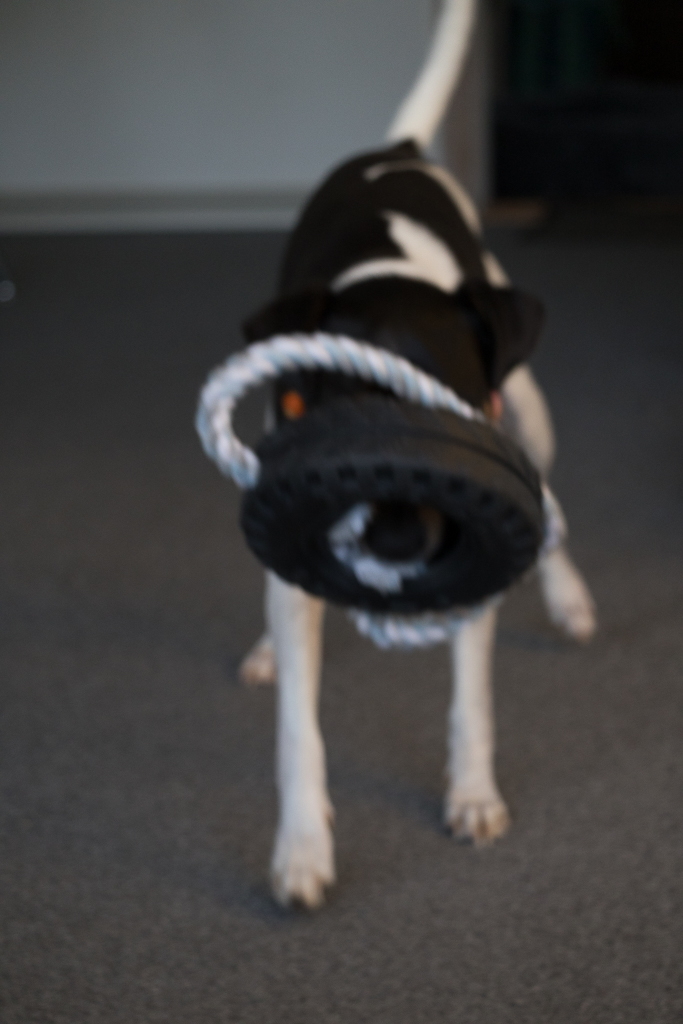Dog: (201, 0, 613, 945)
